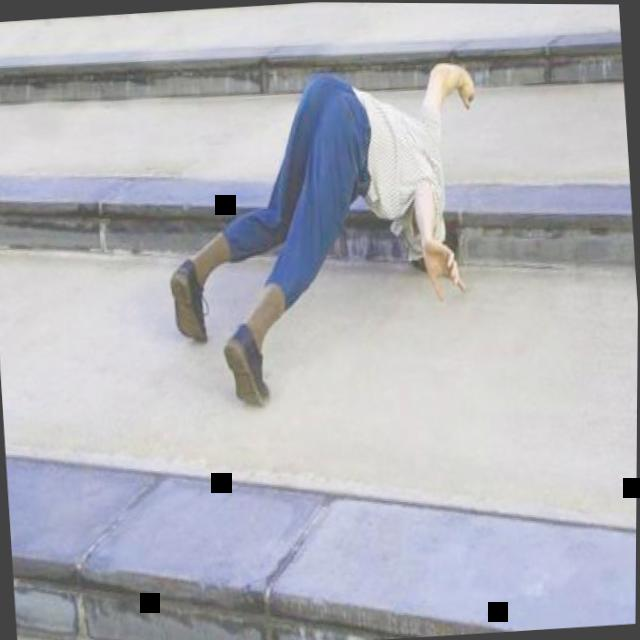Fall-Detected: (149, 39, 511, 413)
